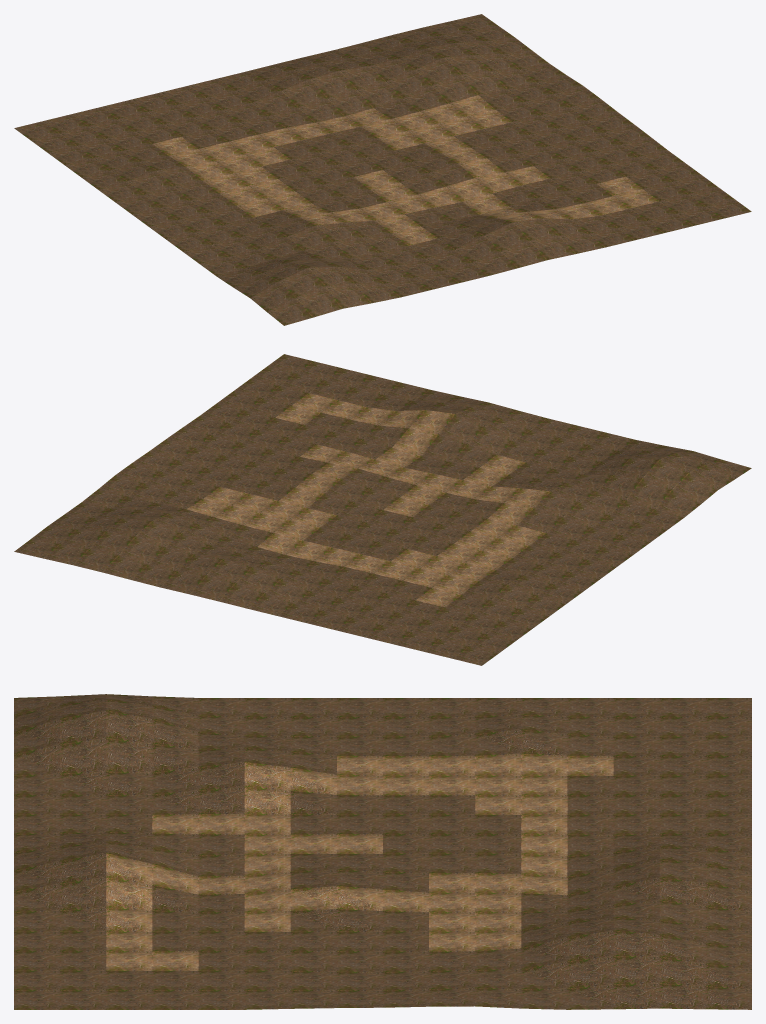
File: ground_paths_fixed.glb
The picture shows the model from 3 angles, top to bottom: view 1: azimuth 30°, elevation 25°; view 2: azimuth 150°, elevation 25°; view 3: azimuth 270°, elevation 25°; orthographic projection. The views are drawn at different scales.
Parts seen in each view (by area): view 1: ground_200_paths; view 2: ground_200_paths; view 3: ground_200_paths.
Boxes of the visible parts, bbox=[...] form: ground_200_paths: bbox=[14, 14, 751, 325]; ground_200_paths: bbox=[14, 354, 751, 665]; ground_200_paths: bbox=[14, 694, 751, 1009].
Size of the model in its own units: 250 by 11.39 by 250.
1 material, 1 textured.
